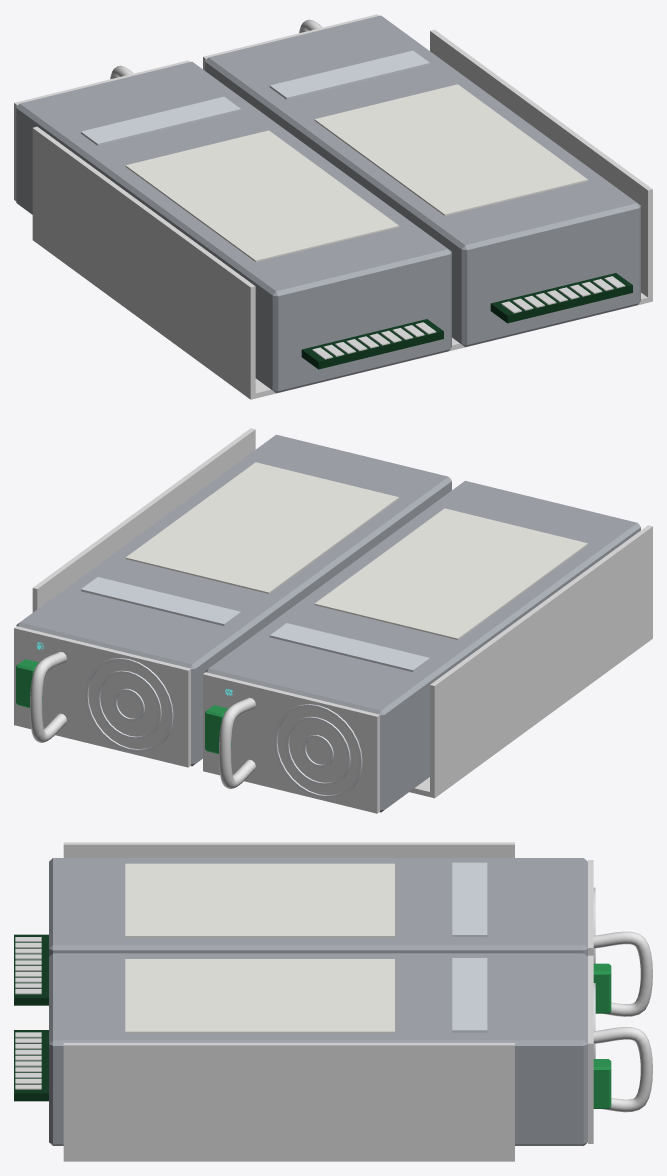
File: hw_psu_1400w_red.glb
3 renders of one model, top to bottom at view 1: azimuth 30°, elevation 25°; view 2: azimuth 150°, elevation 25°; view 3: azimuth 270°, elevation 25°, orthographic. The views are drawn at different scales.
Visible parts, largest first — view 1: Body; view 2: Body; view 3: Body.
Part boxes in pixels (<box>): Body: <box>14,14,652,399</box>; Body: <box>14,428,652,813</box>; Body: <box>14,842,652,1161</box>.
Bounding box in the file's own units: 0.165 × 0.044 × 0.2193.
